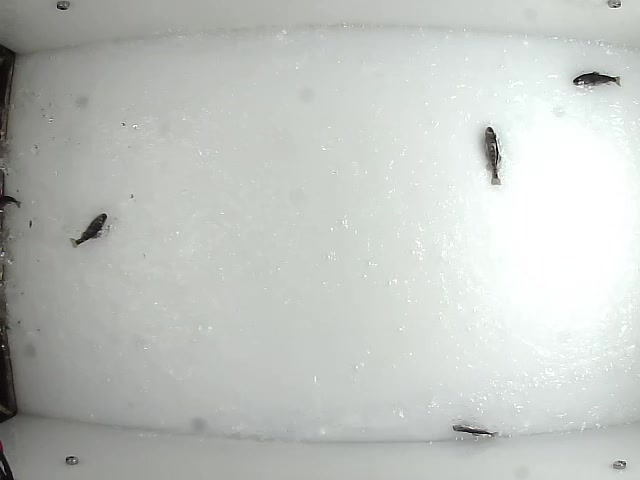fish: (480, 121, 506, 186), (67, 210, 108, 249), (570, 66, 623, 88), (451, 421, 500, 439)
